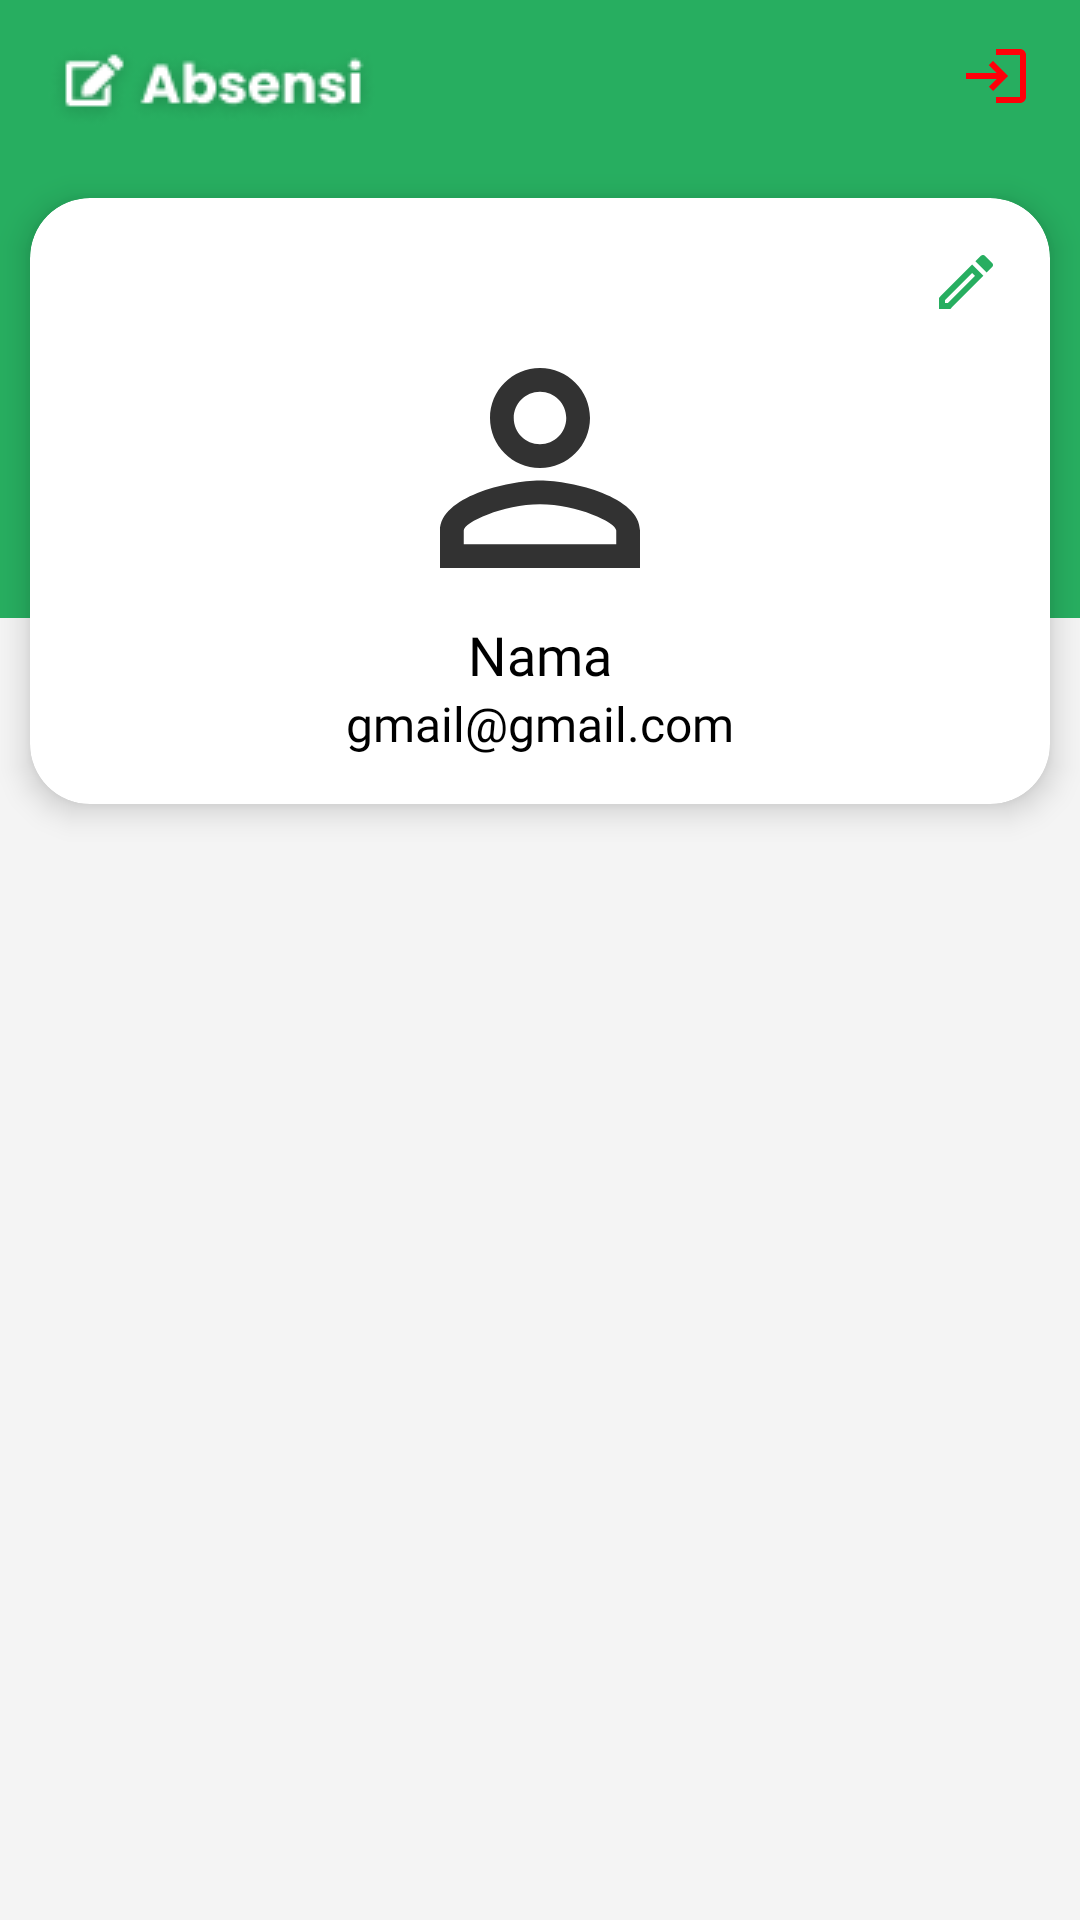

Icons on this 1080×1920 Android screen, each with its box as (x1, y1, x2, y2):
login: (966, 49, 1026, 103)
profile: (440, 368, 640, 568)
